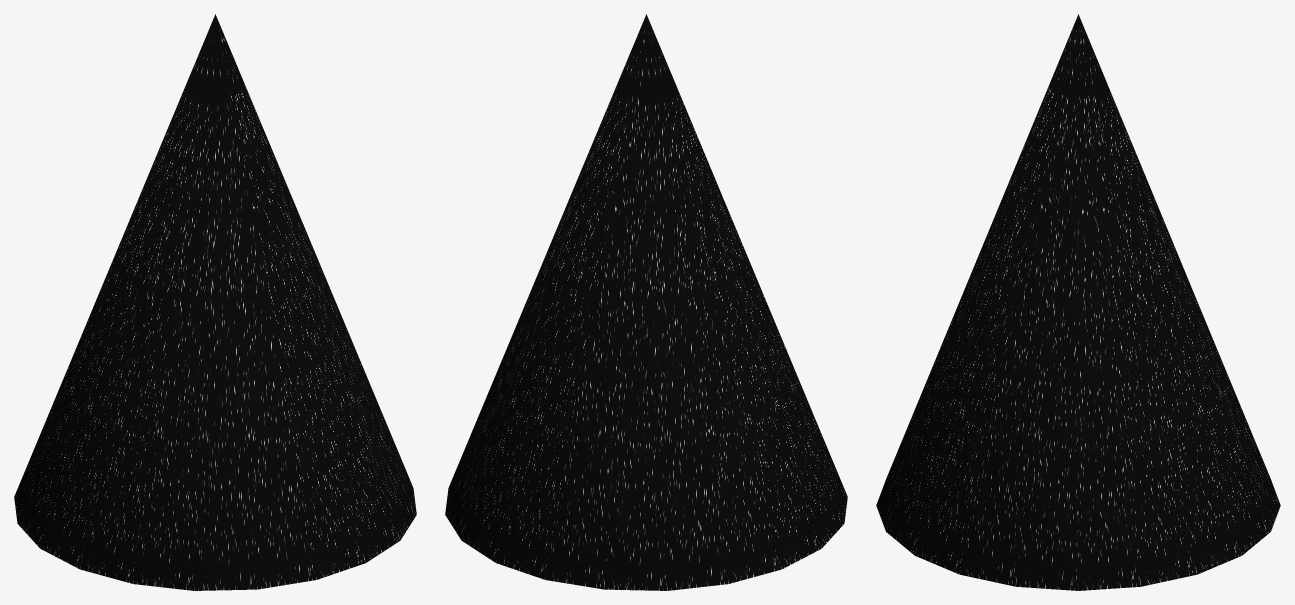
The model's file is supercone.fbx.
The picture shows the model from 3 angles, left to right: view 1: azimuth 30°, elevation 25°; view 2: azimuth 150°, elevation 25°; view 3: azimuth 270°, elevation 25°; orthographic projection.
Parts seen in each view (by area): view 1: pCone1; view 2: pCone1; view 3: pCone1.
Part boxes in pixels (x1,y1,x2,y2): pCone1: (14, 14, 416, 590); pCone1: (445, 14, 847, 590); pCone1: (876, 14, 1280, 590).
Bounding box in the file's own units: 8.11 × 10.87 × 8.11.
1 material, 1 textured.
